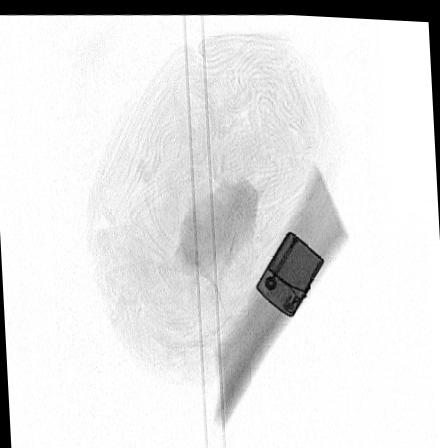Lighter: (254, 227, 324, 315)
